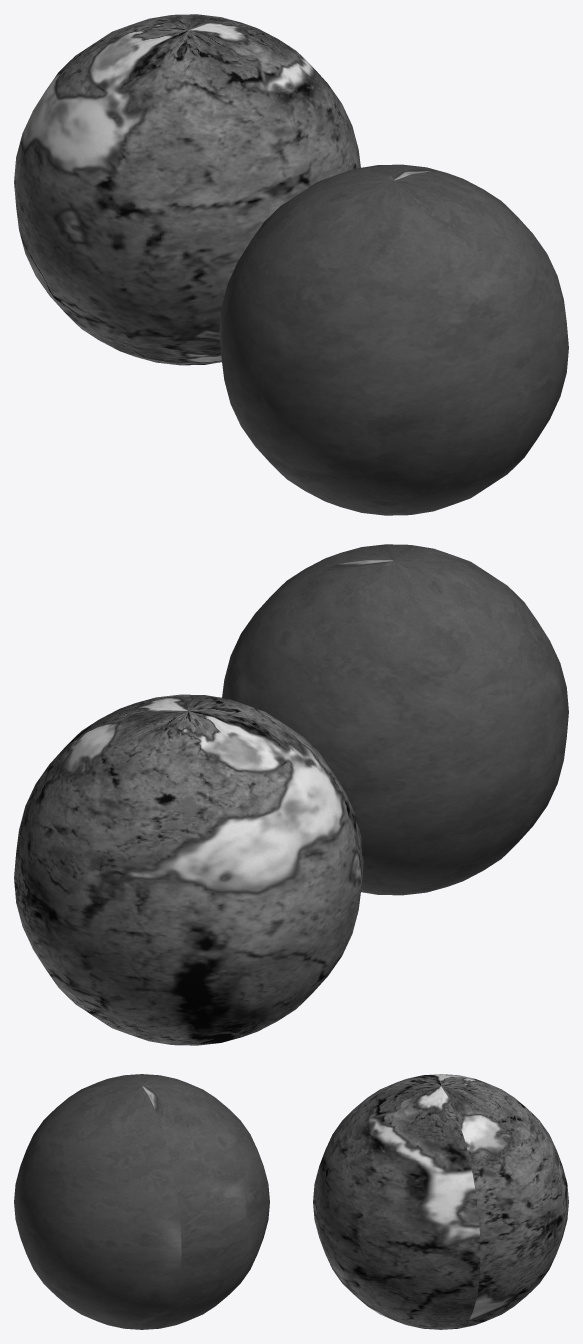
The model's file is 2_spheres_test_splitting_texture_map_by_uv.obj.
3 views of the same model, one above another, from view 1: azimuth 30°, elevation 25°; view 2: azimuth 150°, elevation 25°; view 3: azimuth 270°, elevation 25° (orthographic). The views are drawn at different scales.
Visible parts, largest first — view 1: pSphere1, pSphere2; view 2: pSphere2, pSphere1; view 3: pSphere2, pSphere1.
Part boxes in pixels (x1,y1,x2,y2): pSphere1: (219,164,568,515); pSphere2: (14,14,360,365); pSphere2: (14,694,363,1045); pSphere1: (222,544,568,895); pSphere2: (313,1074,568,1329); pSphere1: (14,1074,269,1329).
Bounding box in the file's own units: 2 × 2 × 4.34.
Materials: 1 (1 with a texture image).
